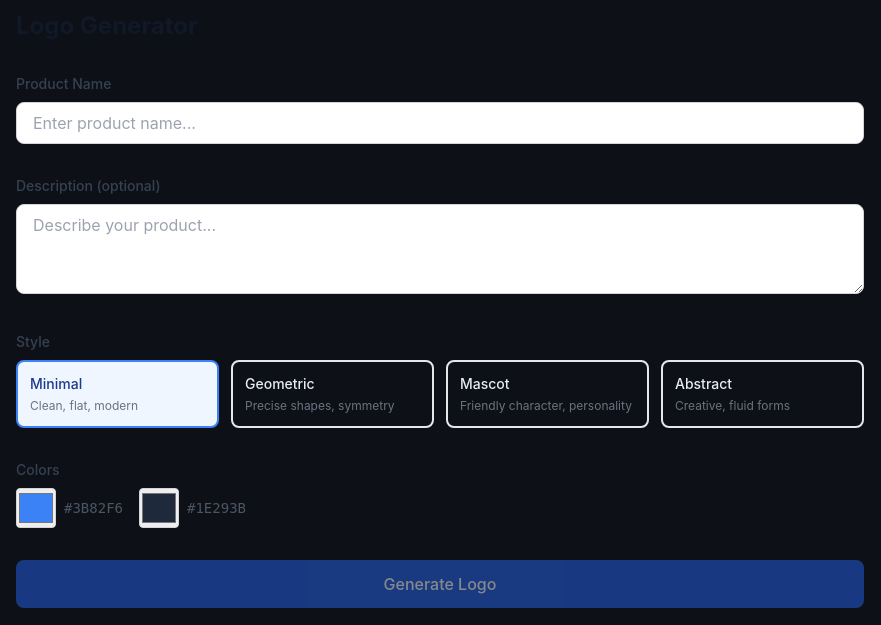
Test: LogoGenerator › shows loading state during generation
Type "MyApp" into the field with placeholder "Enter product name..." at (440, 123), box [16,102,864,144]
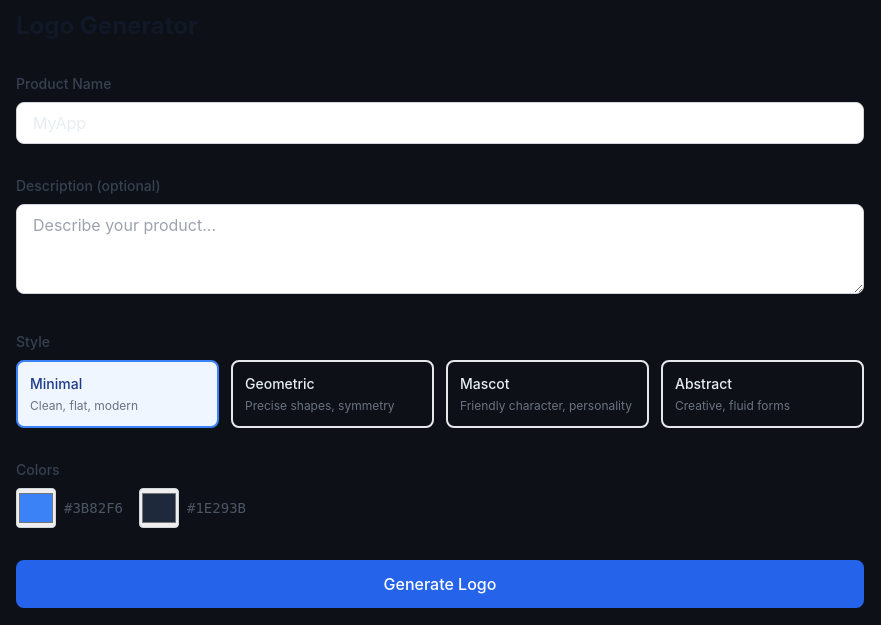
Click the button "Generate Logo" at (440, 584), box [16,560,864,608]
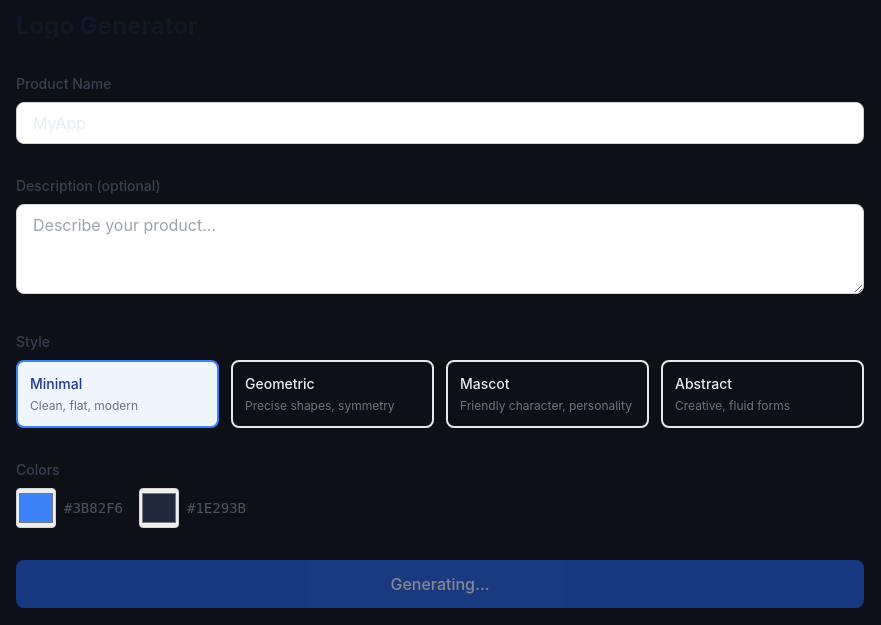
Expected: the button "Generating..." is shown, [16,560,864,608]
